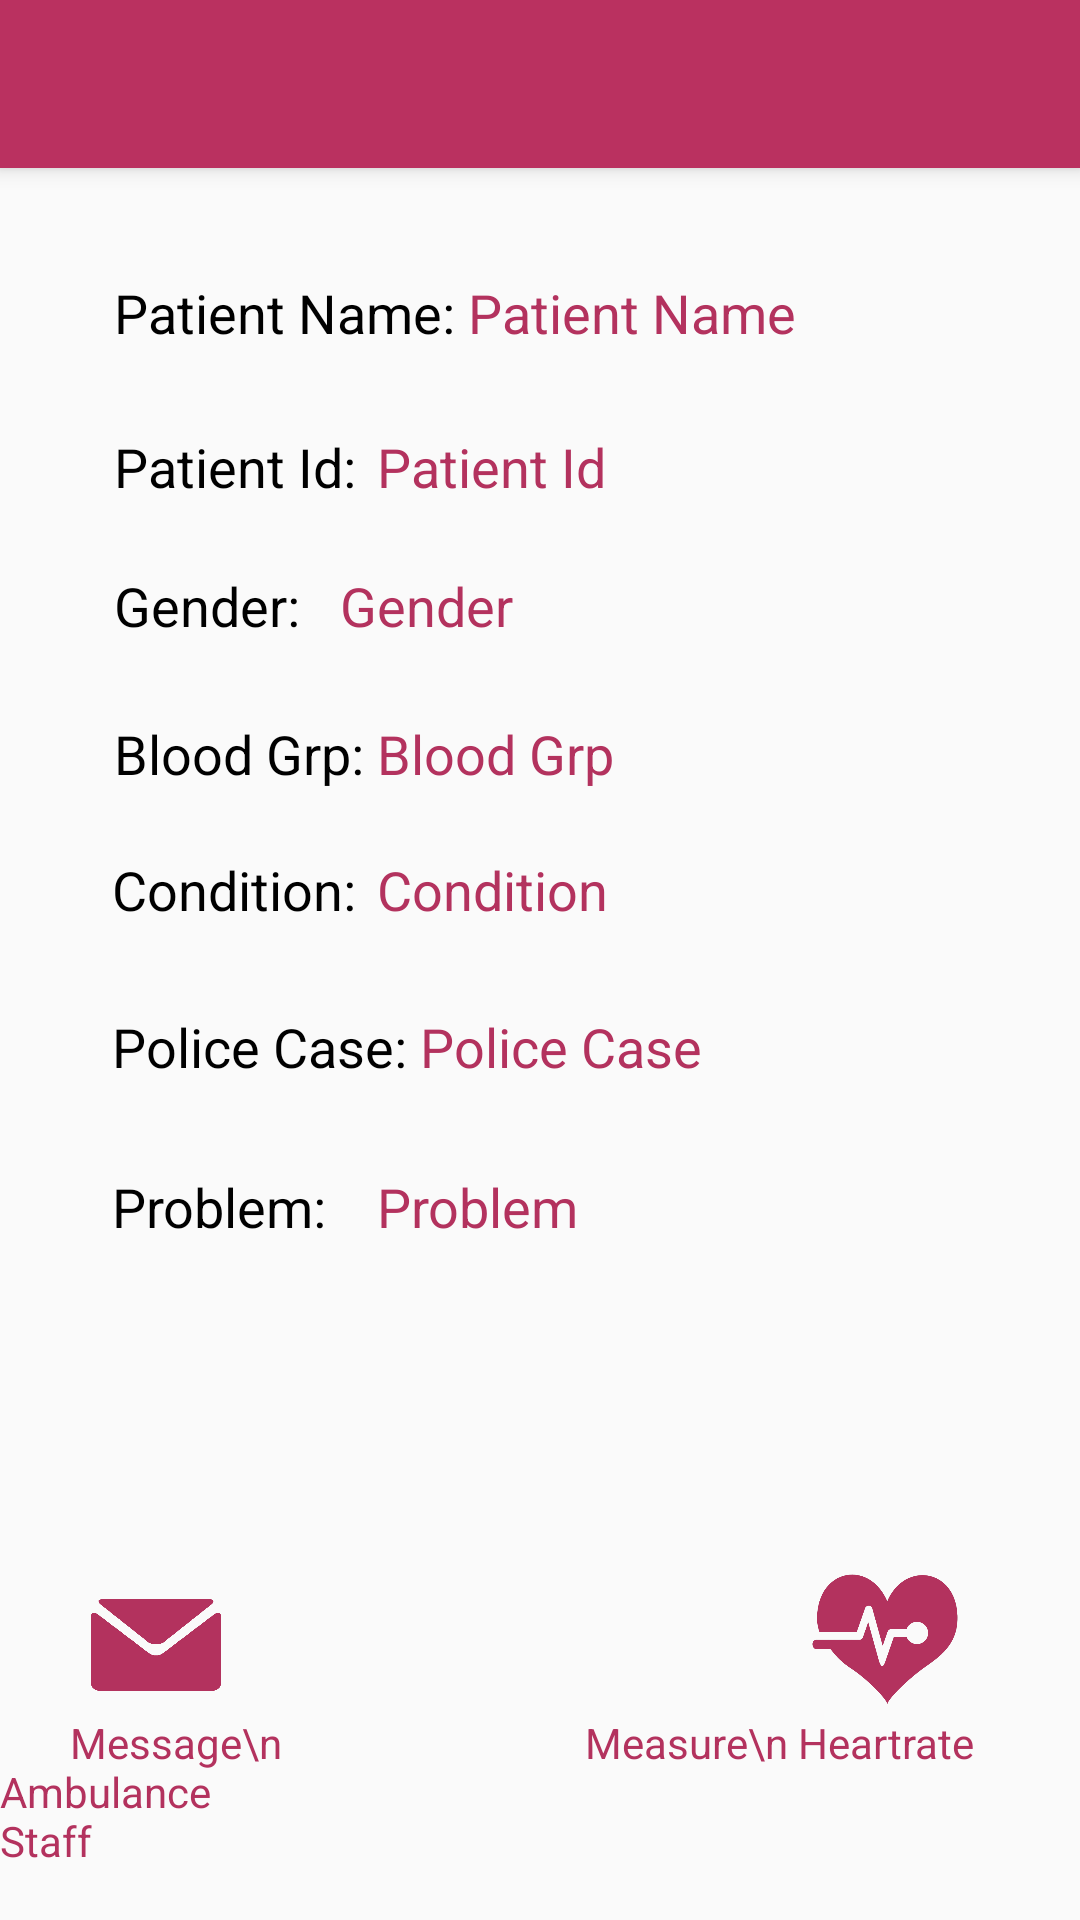

Named icons in this screenshot (1080×1920) and their bounding boxes, {"x1": x1, "y1": y1, "x2": x2, "y2": y2}:
pulse: {"x1": 812, "y1": 1574, "x2": 958, "y2": 1704}
